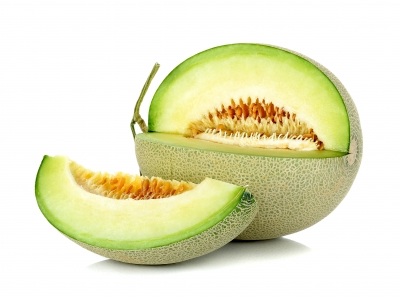Melon: (22, 170, 261, 256)
